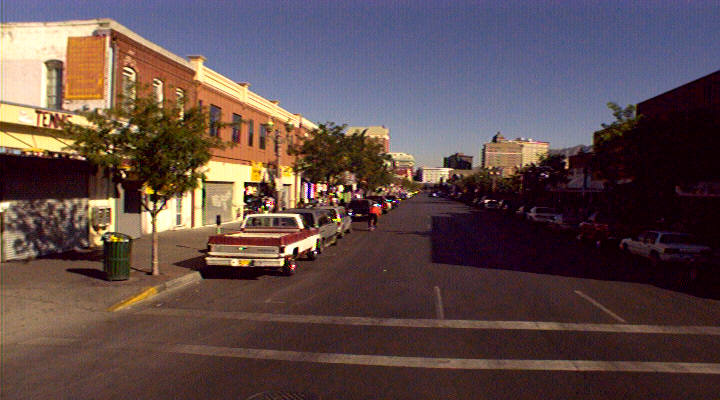Ramp: (1, 276, 127, 367)
